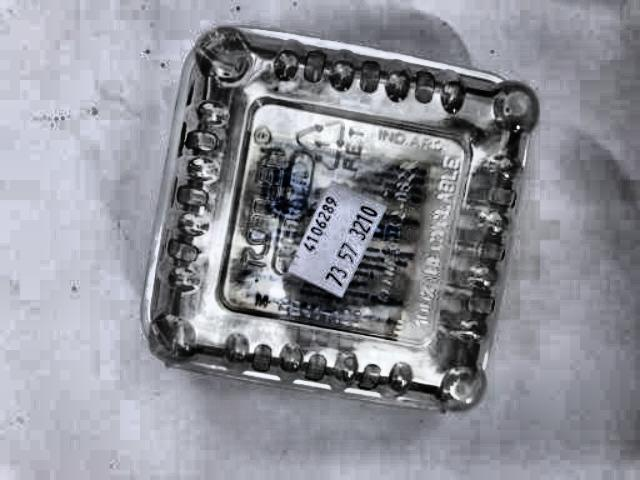Plastic: (127, 24, 544, 414)
